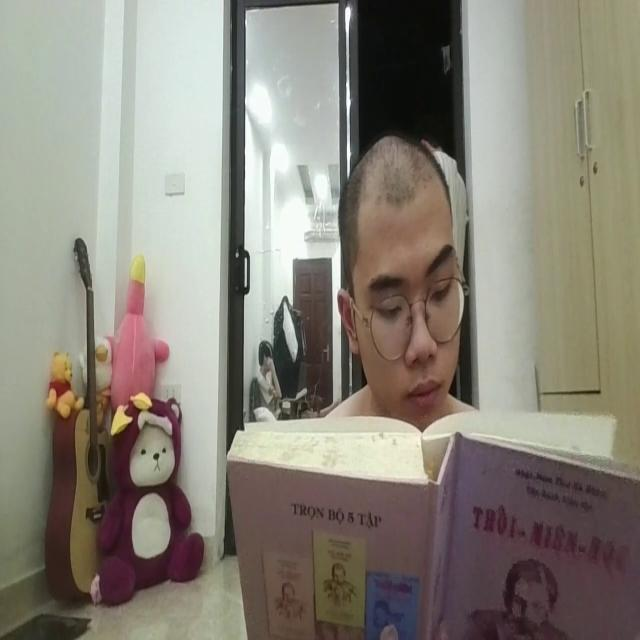book: (222, 406, 640, 640)
extra_person: (422, 127, 474, 274), (248, 332, 300, 418)
student: (324, 127, 480, 418)
